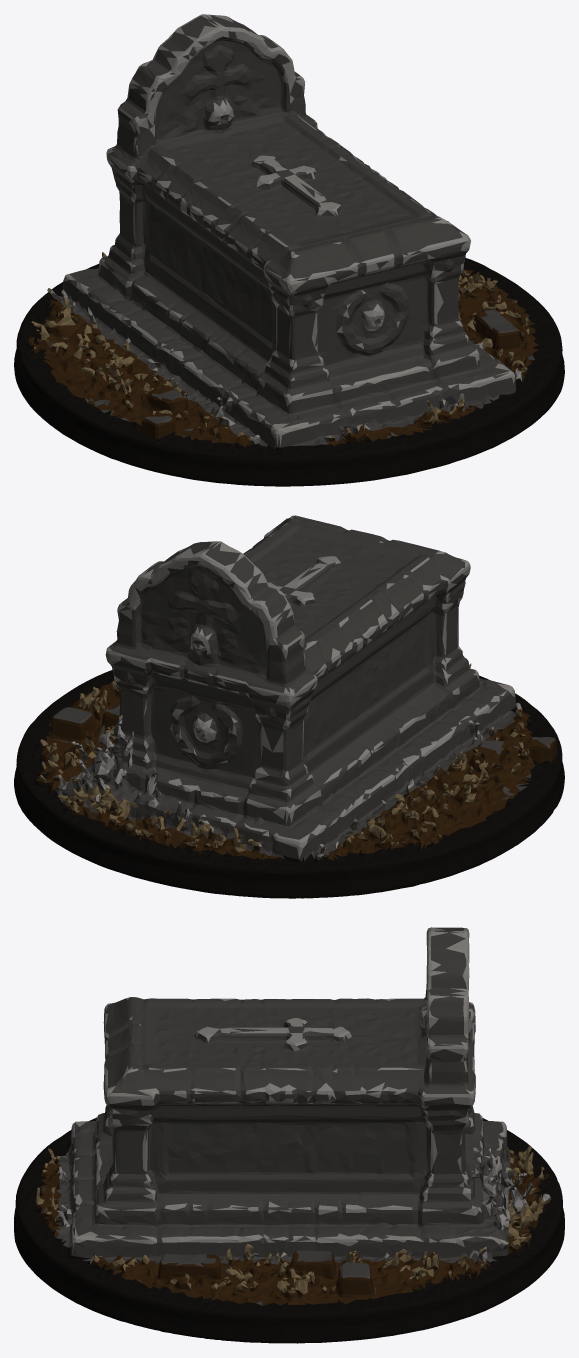
File: tumba_lapide.glb
3 renders of one model, top to bottom at view 1: azimuth 30°, elevation 25°; view 2: azimuth 150°, elevation 25°; view 3: azimuth 270°, elevation 25°, orthographic.
Parts seen in each view (by area): view 1: tmpylf0gt73.ply; view 2: tmpylf0gt73.ply; view 3: tmpylf0gt73.ply.
Boxes of the visible parts, <box> form: tmpylf0gt73.ply: <box>14,14,564,486</box>; tmpylf0gt73.ply: <box>14,515,564,898</box>; tmpylf0gt73.ply: <box>14,927,564,1343</box>.
Bounding box in the file's own units: 1.96 × 1.17 × 1.96.
